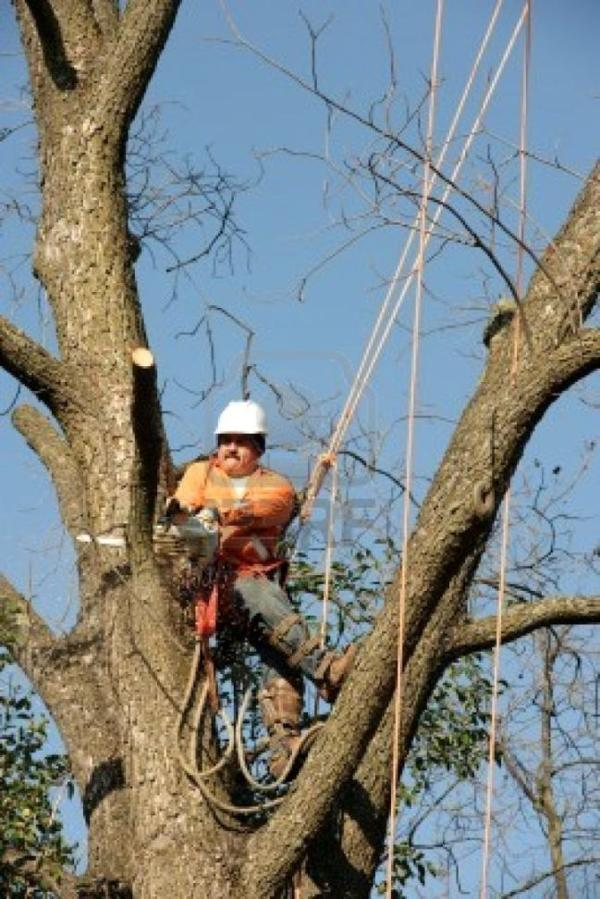person: (168, 396, 358, 782)
